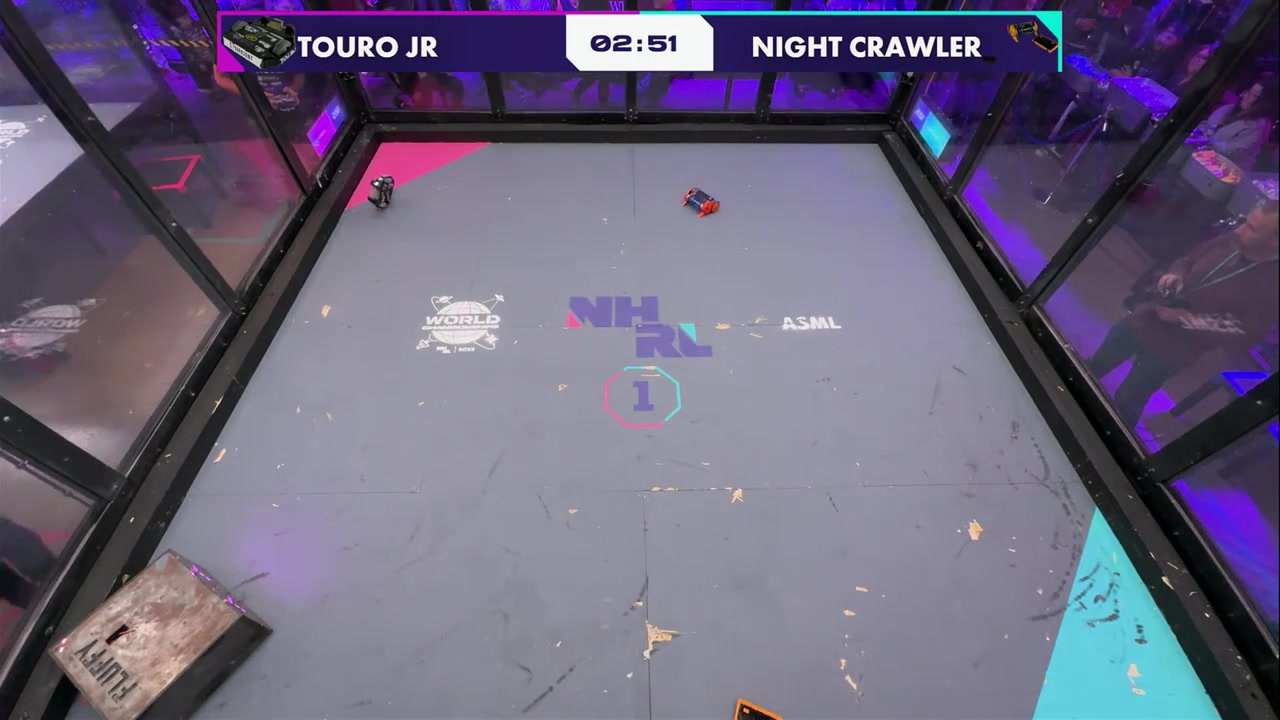combatbot: (683, 189, 720, 218), (369, 175, 397, 208)
housebot: (44, 552, 275, 720)
minibot: (732, 701, 781, 720)
